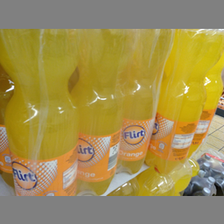soda: (1, 30, 81, 195), (72, 30, 123, 196), (119, 30, 174, 171)
